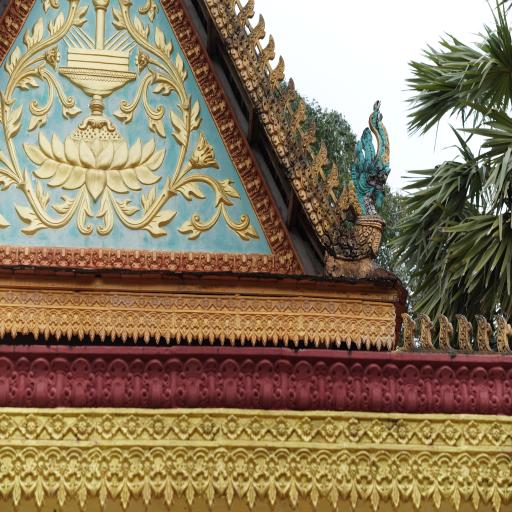hoa: (162, 442, 196, 512), (223, 443, 257, 512), (116, 444, 151, 510), (284, 452, 322, 512), (468, 450, 504, 512), (241, 443, 274, 510), (264, 449, 298, 512), (344, 454, 380, 512), (12, 443, 43, 509), (139, 447, 173, 507), (34, 446, 66, 508), (185, 446, 215, 512), (307, 452, 340, 512), (77, 449, 107, 511), (390, 451, 420, 512), (56, 450, 86, 510), (100, 448, 130, 506), (370, 446, 396, 512), (432, 453, 460, 512), (207, 451, 234, 512), (450, 452, 477, 512), (329, 451, 355, 511), (411, 455, 438, 512), (186, 131, 220, 174), (0, 444, 22, 510), (488, 455, 512, 512), (267, 408, 295, 444), (388, 417, 416, 449), (438, 417, 465, 450), (69, 413, 97, 444), (340, 416, 367, 448), (316, 416, 342, 448), (414, 417, 440, 449), (364, 412, 388, 446), (16, 413, 43, 443), (40, 413, 66, 443), (462, 419, 488, 449), (293, 413, 317, 444), (219, 416, 245, 443), (132, 44, 153, 77), (244, 414, 270, 440), (145, 414, 169, 442), (484, 423, 512, 447), (291, 314, 309, 349), (172, 415, 197, 440), (130, 313, 150, 344), (206, 316, 226, 347), (196, 414, 218, 442), (121, 413, 141, 443), (250, 316, 268, 348), (96, 417, 119, 442), (346, 318, 362, 353), (10, 308, 28, 339), (164, 313, 180, 347), (272, 314, 289, 346), (334, 320, 351, 352), (364, 319, 380, 353), (89, 312, 107, 342), (142, 314, 160, 344), (184, 315, 202, 345), (0, 412, 18, 442), (121, 311, 138, 342), (42, 44, 62, 70), (44, 308, 60, 340), (175, 314, 191, 346), (197, 315, 213, 347), (0, 308, 17, 338), (219, 316, 236, 346), (238, 316, 255, 346), (78, 310, 94, 341), (23, 307, 38, 340), (108, 314, 127, 340), (98, 313, 115, 341), (68, 310, 84, 339), (155, 315, 170, 345), (56, 308, 70, 340), (230, 316, 244, 348), (326, 317, 340, 349), (262, 317, 277, 346), (34, 310, 50, 337), (314, 319, 330, 346), (374, 323, 391, 348), (303, 316, 317, 346), (357, 318, 368, 350), (284, 319, 296, 347), (56, 291, 72, 309), (311, 297, 327, 314), (146, 294, 162, 310), (81, 292, 96, 309), (336, 300, 351, 317), (236, 296, 250, 314), (324, 297, 338, 315), (95, 294, 110, 310), (185, 295, 200, 311), (120, 291, 134, 308), (135, 293, 149, 310), (160, 295, 174, 312), (173, 294, 187, 311), (249, 295, 262, 313), (68, 292, 83, 307), (2, 289, 16, 305), (198, 295, 212, 311), (300, 298, 314, 314), (28, 289, 42, 304), (287, 299, 301, 314), (374, 304, 388, 319), (361, 303, 374, 319), (225, 297, 237, 314), (211, 298, 225, 312), (262, 297, 275, 312), (274, 298, 287, 313), (108, 292, 120, 308), (17, 290, 30, 304), (43, 293, 56, 307), (349, 301, 361, 315)
la: (290, 353, 336, 416), (141, 353, 185, 416), (216, 353, 258, 416), (103, 355, 147, 413), (179, 356, 222, 414), (398, 359, 441, 417), (27, 352, 71, 408), (326, 358, 370, 414), (65, 352, 107, 408), (250, 359, 294, 412), (362, 361, 404, 413), (469, 367, 511, 416), (433, 367, 472, 416), (0, 357, 31, 410), (12, 200, 47, 240), (0, 90, 23, 144), (145, 206, 178, 241), (94, 193, 117, 239), (151, 17, 175, 60), (20, 15, 47, 49), (170, 106, 189, 154), (140, 112, 168, 141), (78, 191, 94, 241), (70, 2, 92, 36), (264, 219, 288, 250), (152, 73, 176, 103), (306, 192, 330, 222), (206, 81, 226, 116), (49, 190, 72, 220), (172, 46, 190, 84), (224, 122, 244, 156), (254, 95, 280, 121), (188, 99, 204, 141), (138, 0, 162, 28), (312, 204, 333, 236), (297, 173, 319, 203), (138, 184, 159, 215), (32, 176, 50, 212), (220, 170, 240, 202), (130, 12, 151, 42), (259, 109, 285, 133), (274, 129, 297, 156), (191, 50, 211, 81), (242, 165, 262, 196), (258, 202, 280, 230), (4, 44, 24, 74), (114, 101, 136, 128), (51, 242, 73, 269), (248, 185, 270, 212), (302, 185, 324, 212), (29, 107, 50, 135), (279, 140, 300, 168), (114, 194, 136, 220), (233, 145, 252, 175), (46, 12, 66, 40), (242, 66, 265, 90), (16, 73, 38, 98), (284, 152, 306, 177), (291, 164, 313, 189), (178, 216, 199, 242), (72, 242, 92, 269), (250, 72, 269, 100), (110, 3, 126, 36), (125, 246, 147, 270), (236, 55, 258, 79), (233, 45, 254, 70), (254, 88, 275, 113), (106, 243, 126, 269), (215, 248, 235, 274), (215, 5, 235, 31), (0, 167, 17, 197), (35, 238, 52, 268), (233, 249, 255, 272), (90, 242, 110, 267), (237, 221, 255, 248), (176, 19, 194, 46), (214, 109, 232, 136), (60, 98, 80, 122), (269, 121, 289, 145), (145, 246, 163, 272), (182, 35, 200, 61), (222, 25, 244, 46), (228, 35, 250, 56), (167, 0, 183, 28), (162, 250, 182, 272), (180, 248, 200, 270), (211, 0, 231, 22), (200, 74, 218, 98), (220, 14, 238, 37), (0, 242, 16, 267), (17, 242, 35, 264), (254, 252, 272, 273), (39, 0, 61, 16), (200, 249, 216, 271)
lua: (398, 308, 420, 357), (434, 309, 454, 358), (493, 305, 512, 354), (456, 309, 476, 354), (474, 310, 493, 356), (309, 136, 329, 179), (288, 92, 307, 137), (416, 310, 434, 354), (266, 51, 284, 94), (299, 116, 318, 154), (257, 34, 275, 72), (330, 178, 348, 216), (248, 14, 266, 50), (278, 76, 294, 116), (320, 158, 336, 198), (236, 0, 256, 28)
ran: (344, 93, 399, 233)
